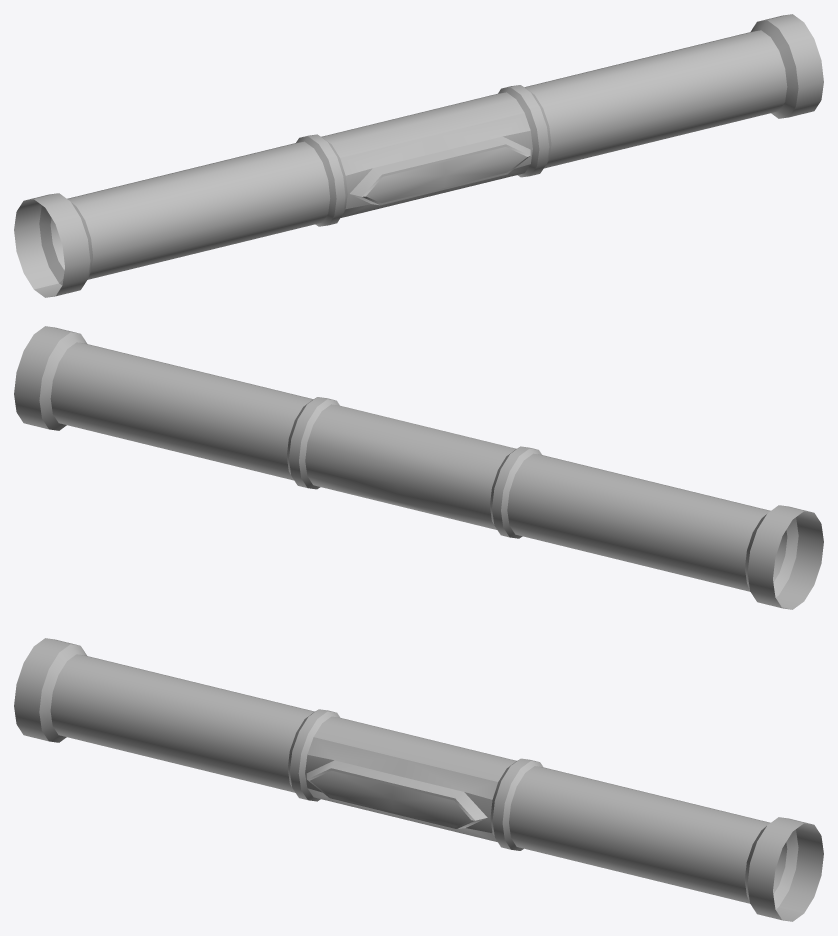
Rendered from KF_SM_Lpipe001.fbx.
3 renders of one model, top to bottom at view 1: azimuth 30°, elevation 25°; view 2: azimuth 150°, elevation 25°; view 3: azimuth 330°, elevation 25°, orthographic.
Parts seen in each view (by area): view 1: KF_SM_Lpipe001; view 2: KF_SM_Lpipe001; view 3: KF_SM_Lpipe001.
Part boxes in pixels (x1=…): KF_SM_Lpipe001: x1=14, y1=14, x2=823, y2=297; KF_SM_Lpipe001: x1=14, y1=326, x2=823, y2=609; KF_SM_Lpipe001: x1=14, y1=638, x2=823, y2=921.
Bounding box in the file's own units: 4995 × 568 × 612.
